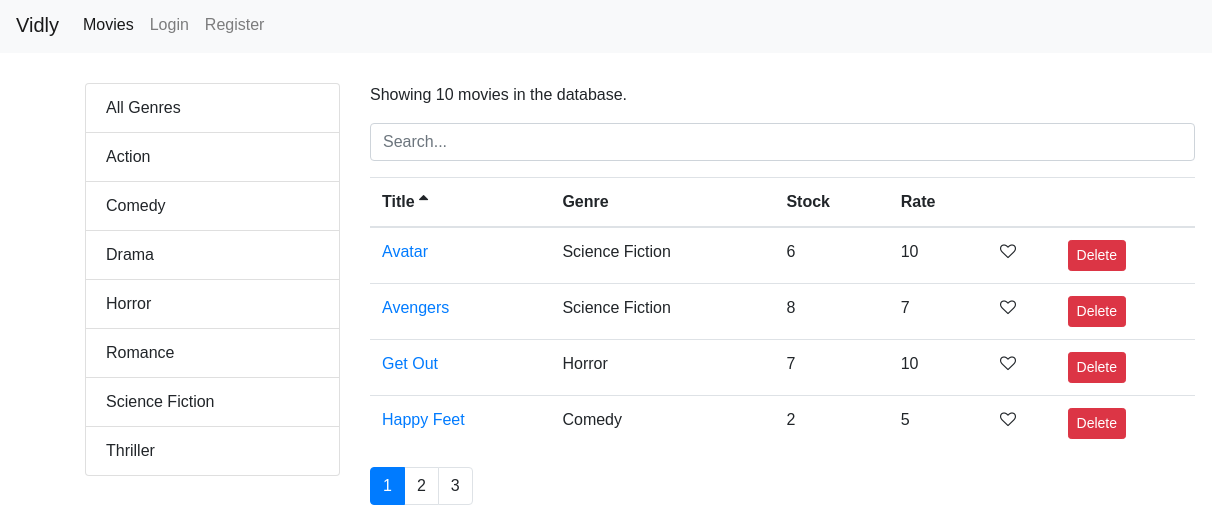
it: A non registered user interacting with the homepage › redirects user to login form when 'login' is clicked through the navbar
Click the link with test id "navbar-login-link". click: coordinates (170, 25)
box: [150,16,189,33]
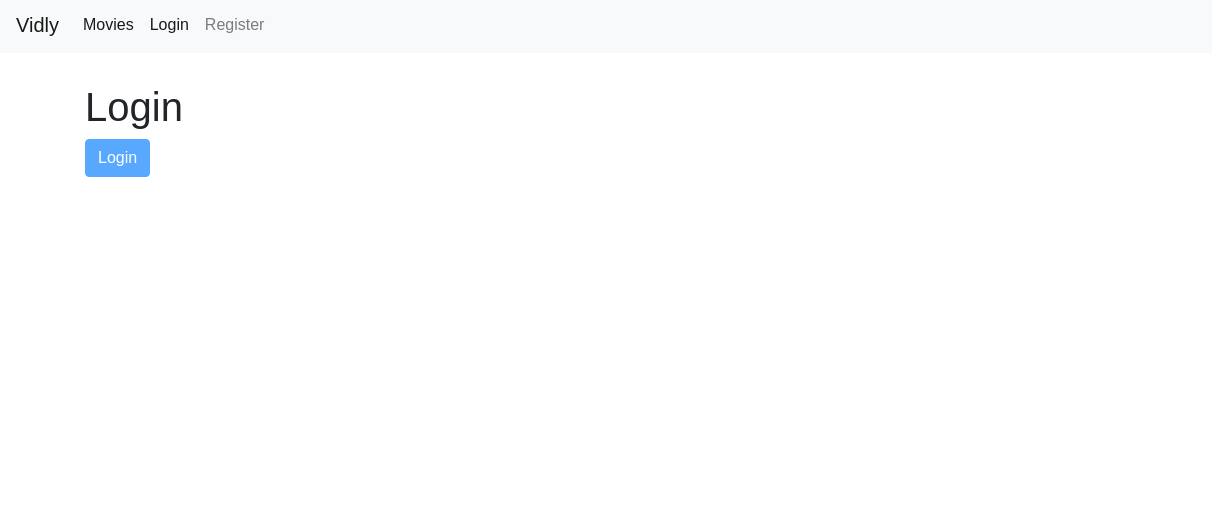
Expected: the heading with test id "login-header" reads "Login", [85,85,183,129]
